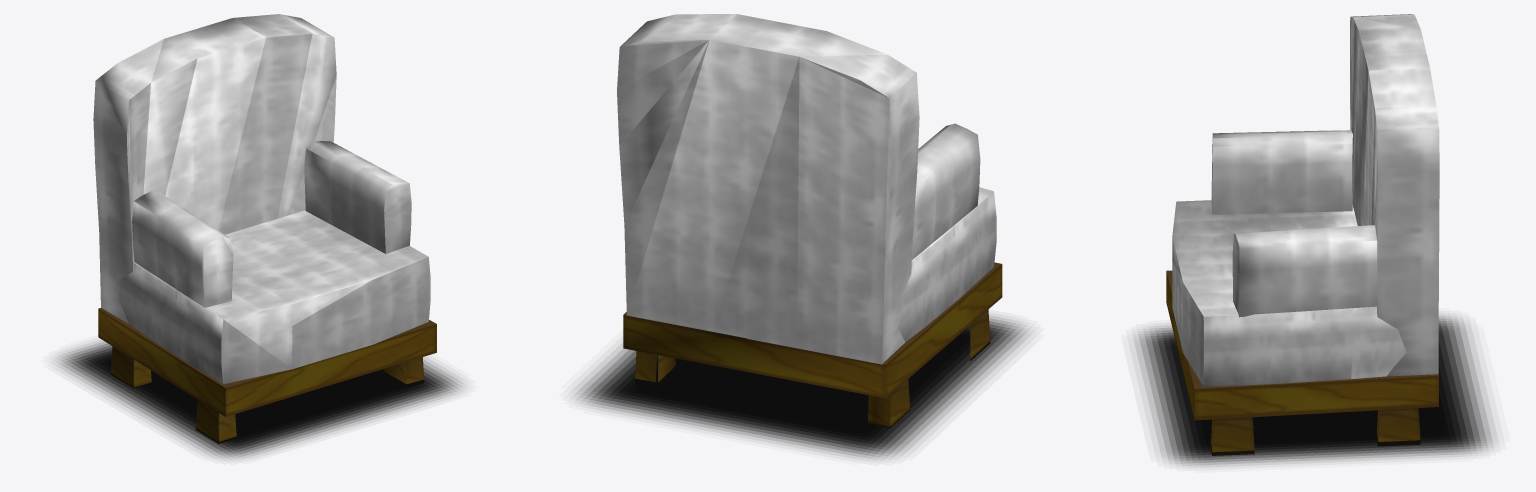
File: couch_1personDesat.glb
The picture shows the model from 3 angles, left to right: view 1: azimuth 30°, elevation 25°; view 2: azimuth 150°, elevation 25°; view 3: azimuth 270°, elevation 25°; orthographic projection. The views are drawn at different scales.
Visible parts, largest first — view 1: random_to1_TI_couch, drop_shadow, frame_base; view 2: random_to1_TI_couch, drop_shadow, frame_base; view 3: random_to1_TI_couch, drop_shadow, frame_base.
Part boxes in pixels (box(x1,y1,x2,y2)): random_to1_TI_couch: box(93, 14, 430, 384); drop_shadow: box(56, 340, 463, 459); frame_base: box(98, 308, 436, 443); random_to1_TI_couch: box(617, 14, 996, 364); drop_shadow: box(574, 315, 1030, 459); frame_base: box(623, 262, 1002, 426); random_to1_TI_couch: box(1172, 14, 1439, 387); drop_shadow: box(1133, 314, 1497, 467); frame_base: box(1166, 270, 1438, 455).
Bounding box in the file's own units: 4.38 × 3.94 × 4.38.
3 materials, 3 textured.
